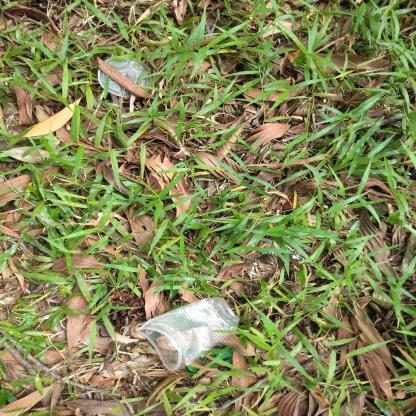trash: (133, 294, 247, 378), (96, 48, 164, 101)
